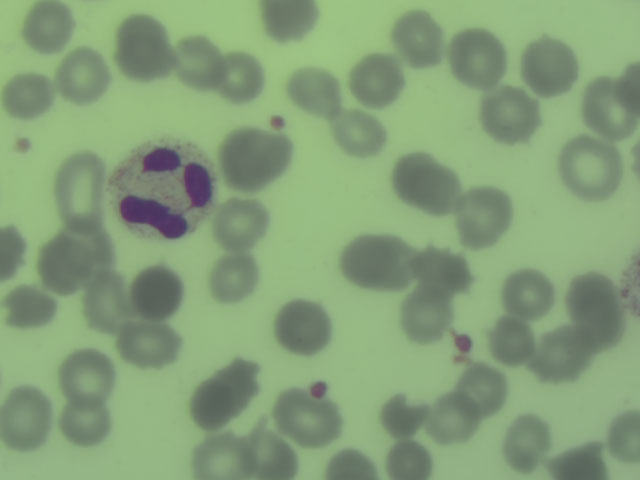Platelets: (307, 375, 332, 405), (451, 330, 478, 357), (13, 132, 35, 161), (265, 112, 292, 132)
RBC: (51, 146, 112, 231), (407, 248, 481, 298), (81, 264, 127, 342), (274, 298, 332, 357), (202, 251, 260, 310), (194, 366, 252, 425), (395, 289, 453, 348), (344, 228, 402, 287), (456, 188, 514, 247), (397, 153, 455, 212), (213, 193, 271, 252), (56, 393, 114, 452), (56, 347, 114, 406), (120, 315, 178, 374), (126, 259, 184, 318), (37, 232, 95, 291), (2, 280, 60, 339), (562, 140, 620, 199), (580, 78, 638, 137), (521, 35, 579, 94), (480, 87, 538, 146), (449, 27, 507, 86), (389, 9, 447, 68), (349, 50, 407, 109), (223, 130, 281, 189), (328, 104, 386, 163), (285, 60, 343, 119), (211, 46, 269, 105), (166, 34, 224, 93), (112, 18, 170, 77), (55, 45, 113, 104), (499, 262, 557, 321), (537, 326, 595, 385), (424, 390, 482, 449), (453, 358, 511, 417), (497, 413, 555, 472), (273, 393, 338, 445), (564, 270, 617, 331), (374, 389, 435, 441), (191, 429, 251, 480), (1, 383, 46, 449), (1, 68, 55, 123), (16, 1, 74, 52), (239, 429, 292, 480), (256, 1, 324, 40), (487, 314, 536, 367), (381, 440, 440, 480), (542, 443, 603, 480), (605, 404, 640, 466), (322, 445, 375, 480), (1, 224, 29, 280)
WBC: (111, 135, 216, 248)
